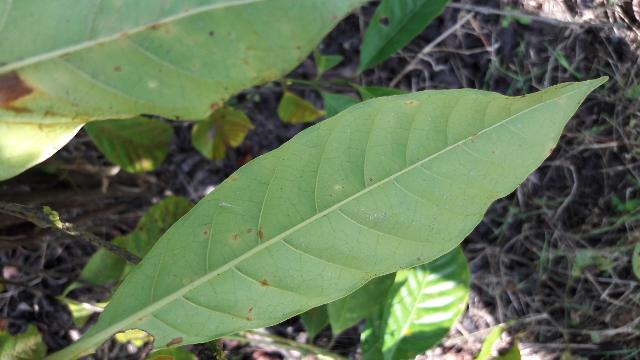rust_level_1: (92, 79, 602, 349)
